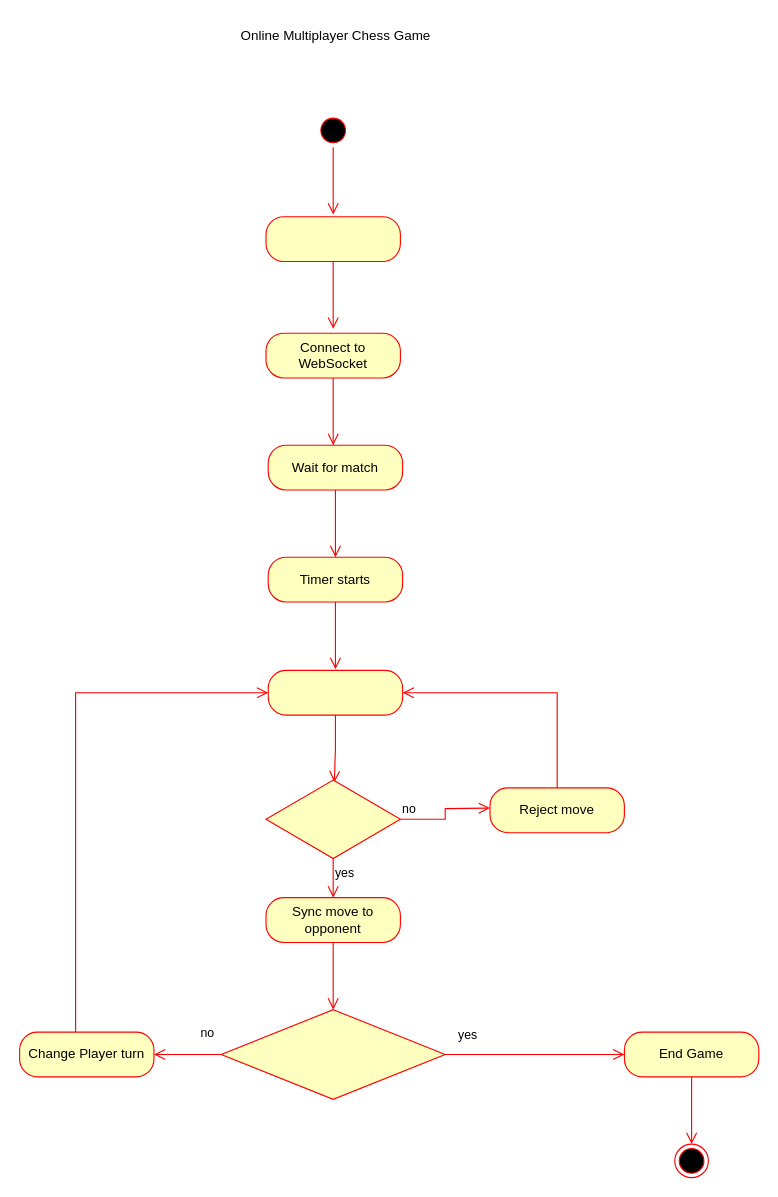
The diagram is 778 pixels wide and 1197 high, and some of its shapes have lost their labels. The shapes that lost their labels are listed below. From the top down, each one's box as (x1, y1, x2, y2) in pixels, then its label:
(265, 216, 400, 262): User selects Online mode
(267, 669, 403, 715): currant player makes move
(265, 779, 400, 858): Legal move?
(220, 1009, 445, 1099): checkmate / timeout
